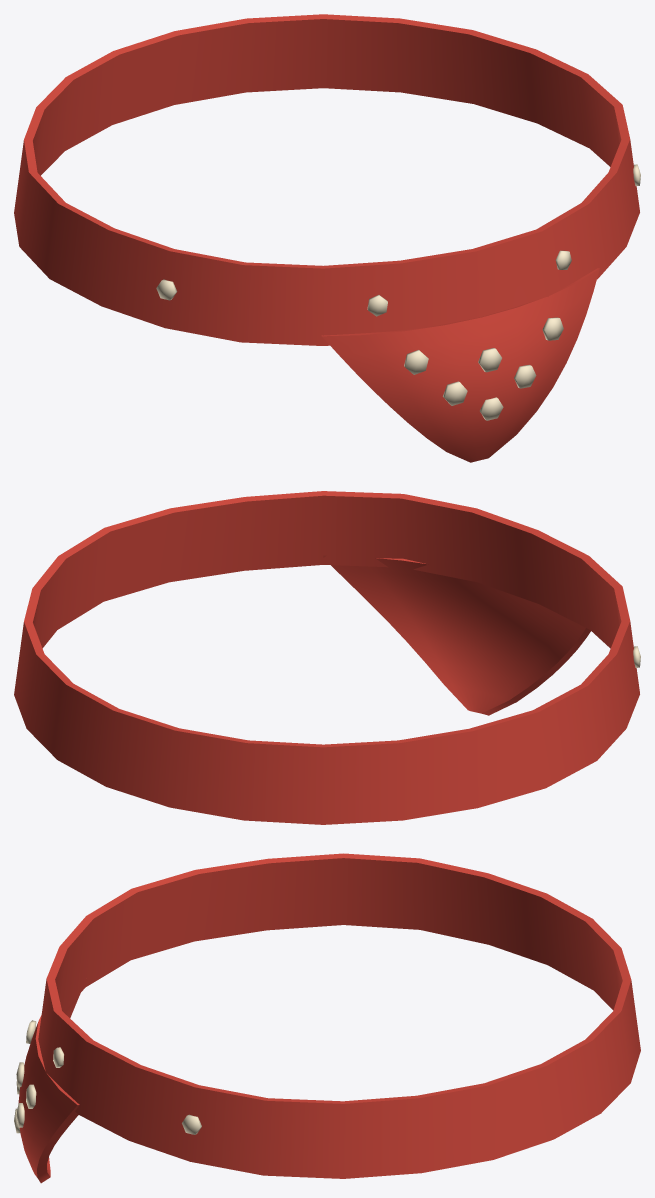
Rendered from neck_bandana.glb.
3 renders of one model, top to bottom at view 1: azimuth 30°, elevation 25°; view 2: azimuth 150°, elevation 25°; view 3: azimuth 270°, elevation 25°, orthographic. The views are drawn at different scales.
Visible parts, largest first — view 1: Band, Triangle, Dots; view 2: Band, Triangle; view 3: Band, Triangle, Dots.
Part boxes in pixels (left/top/right/bottom): Band: left=14, top=14, right=639, bottom=345; Triangle: left=321, top=268, right=599, bottom=462; Dots: left=156, top=164, right=640, bottom=420; Band: left=14, top=491, right=639, bottom=824; Triangle: left=323, top=555, right=590, bottom=715; Band: left=38, top=853, right=640, bottom=1178; Triangle: left=18, top=978, right=86, bottom=1183; Dots: left=14, top=1020, right=201, bottom=1134.
Size of the model in its own units: 0.8574 by 0.3105 by 0.8786.
